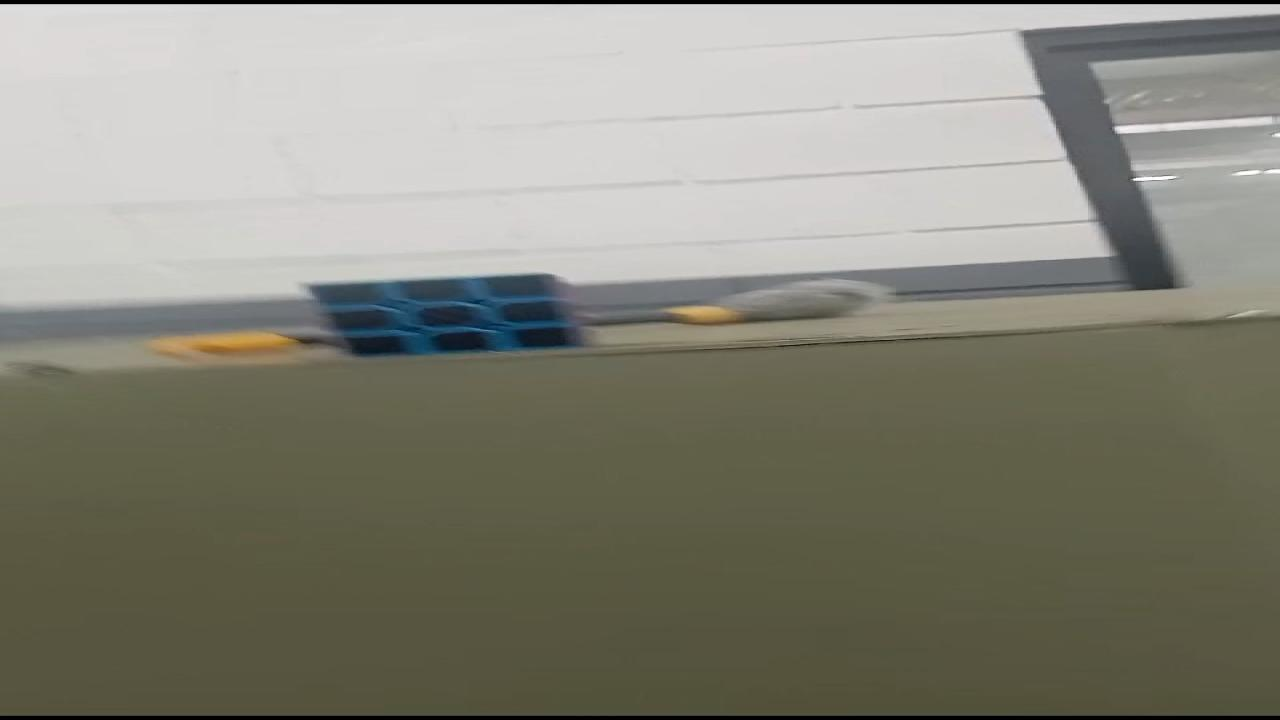Cube: (294, 271, 590, 357)
